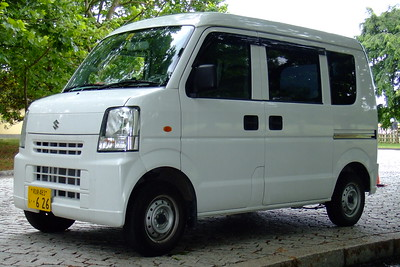van: (12, 11, 380, 256)
